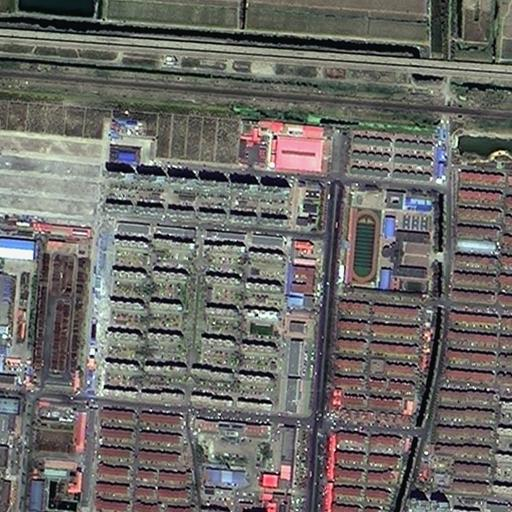school: (341, 183, 436, 292)
